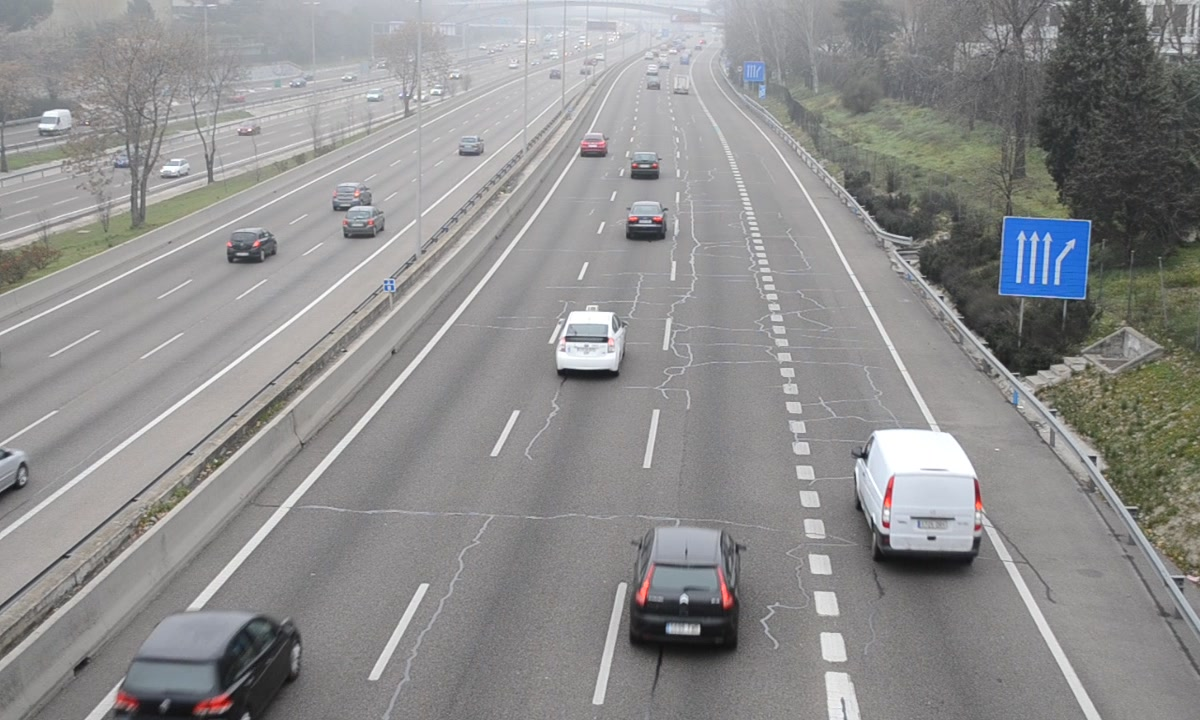car: (112, 609, 300, 720), (630, 528, 737, 646), (556, 310, 628, 371), (628, 198, 666, 237), (629, 149, 660, 177), (579, 131, 609, 157)
van: (857, 430, 984, 562)
